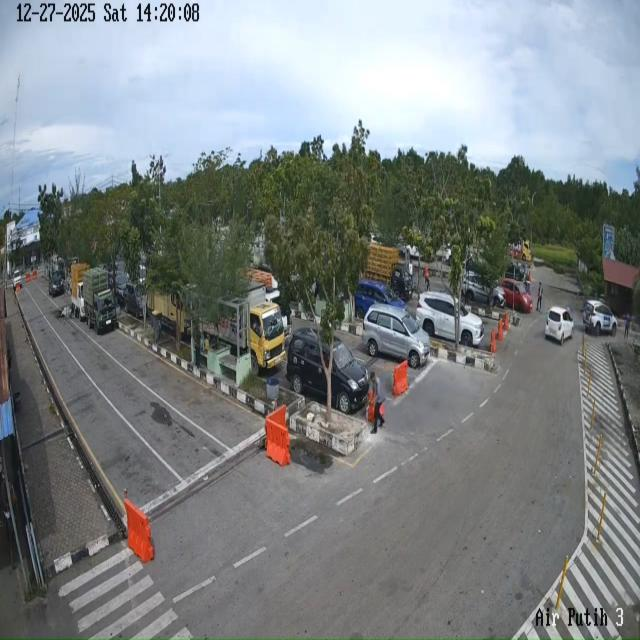Golongan IVA: (286, 327, 369, 414), (362, 304, 430, 368), (416, 292, 484, 347), (355, 279, 406, 320), (463, 271, 506, 307), (583, 299, 617, 336), (500, 278, 532, 313), (545, 306, 574, 344), (122, 282, 144, 318), (48, 271, 65, 297)
Golongan IVB: (84, 267, 116, 334), (70, 263, 89, 321)
Golongan VB: (201, 280, 286, 374)
